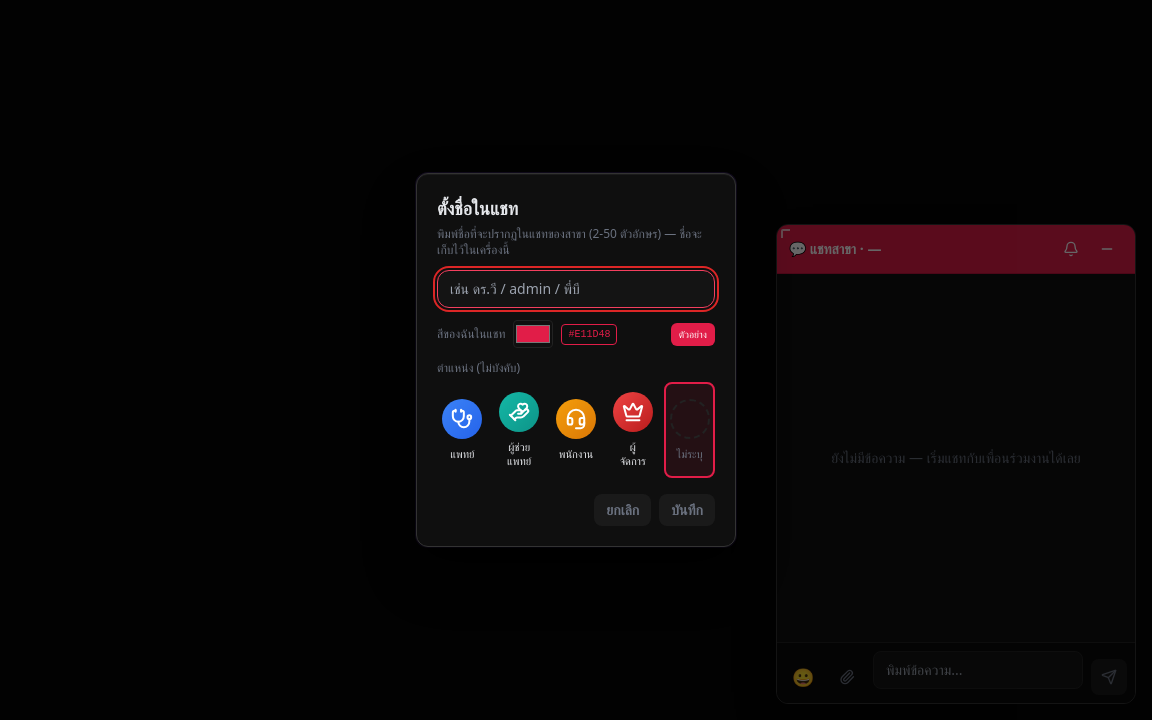
it: V73.W5 StaffChatNamePicker › W5.3 save enabled when ≥2 chars
The image size is (1152, 720).
Type "ดร.วี" into the field with test id "staff-chat-name-picker-input" at (576, 289), box [437,270,715,308]
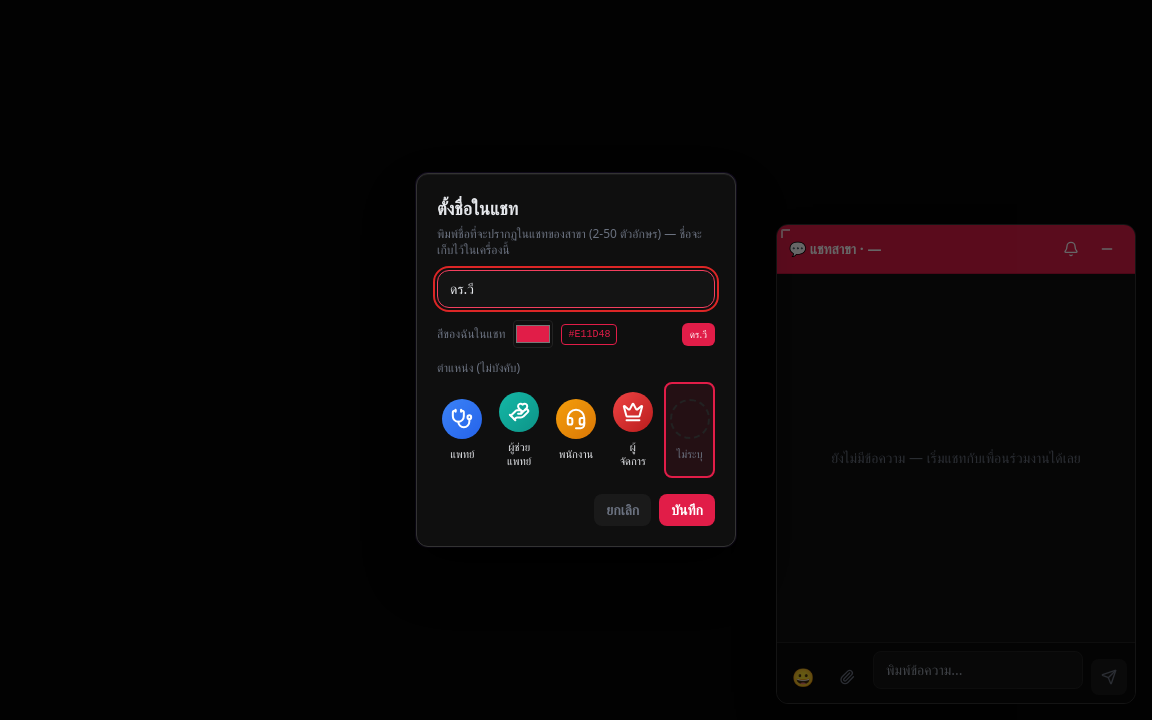
Now the button with test id "staff-chat-name-picker-save" is enabled, box [659,494,715,526]
